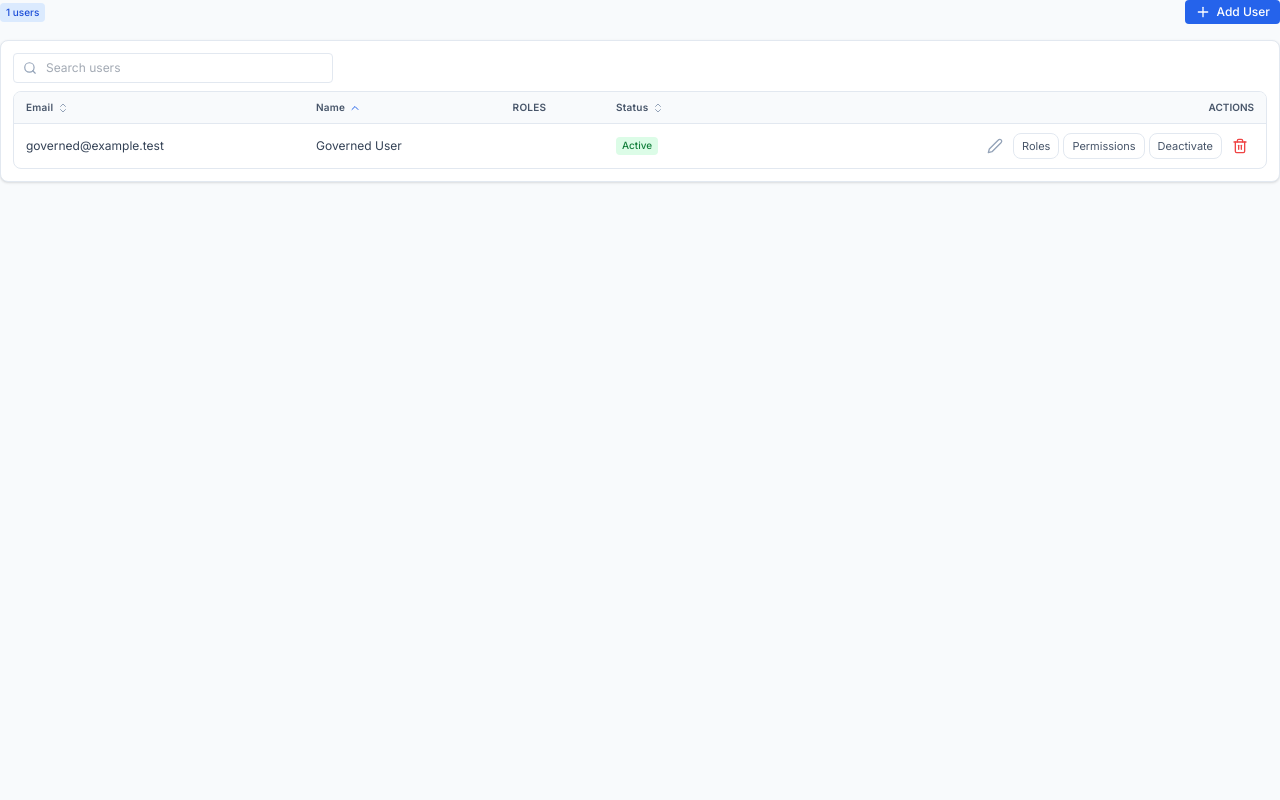
Test: User administration member permissions › requires and transports a governance reason with the current RowVersion for account suspension
Later steps or results of the test are not shown.
Click the button "Deactivate".
click(1185, 146)  # box [1149, 133, 1222, 159]
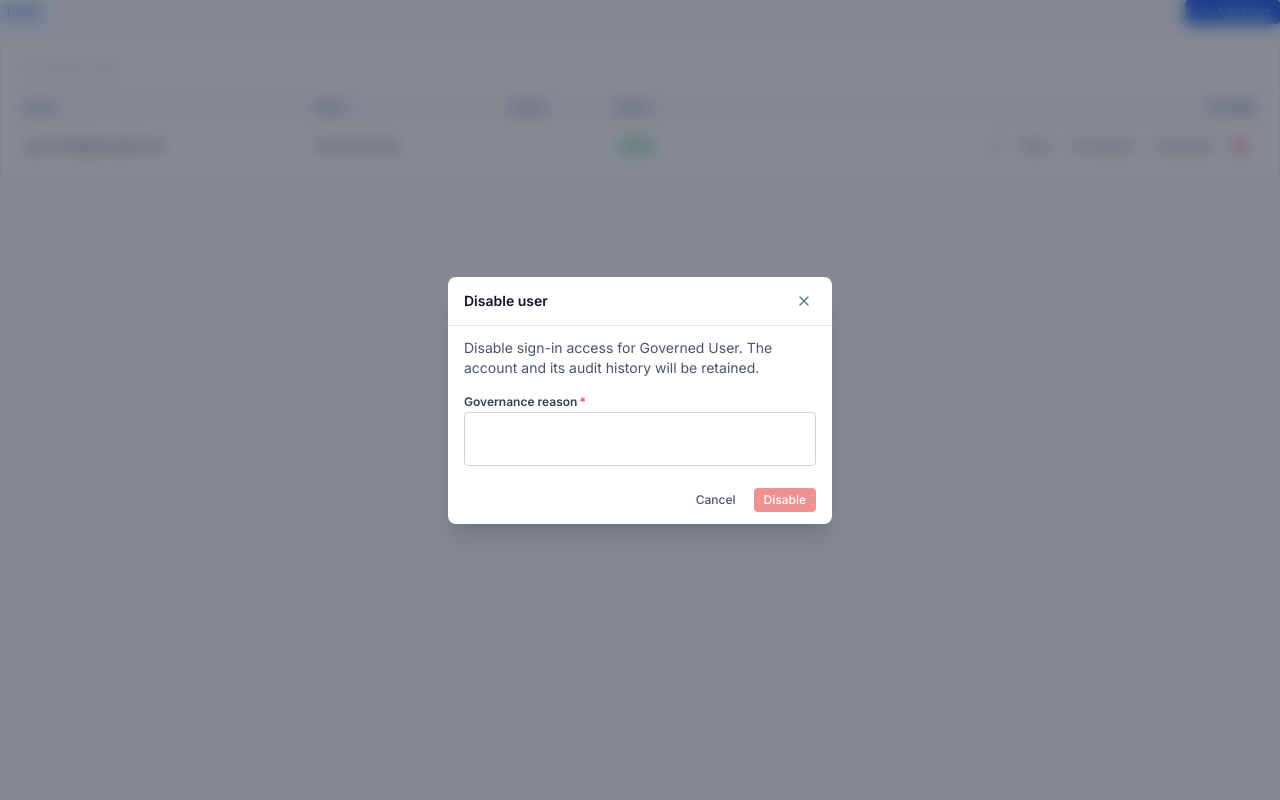
Expected: the button "Disable" is disabled, [754, 488, 816, 512]
Type "Approved temporary account suspension" into the text box labelled "Governance reason*".
click(640, 438); type("Approved temporary account suspension")  # box [464, 412, 816, 466]
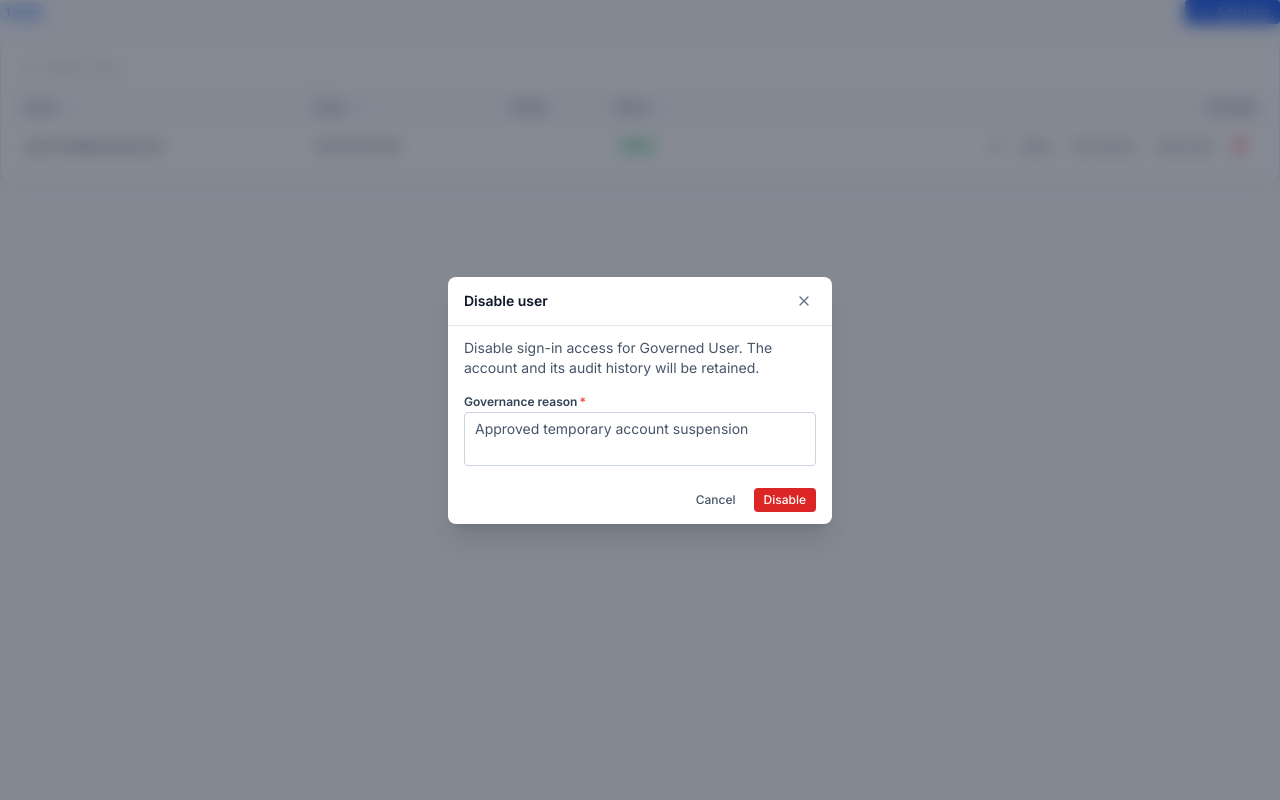
Expected: the button "Disable" is enabled, [754, 488, 816, 512]
